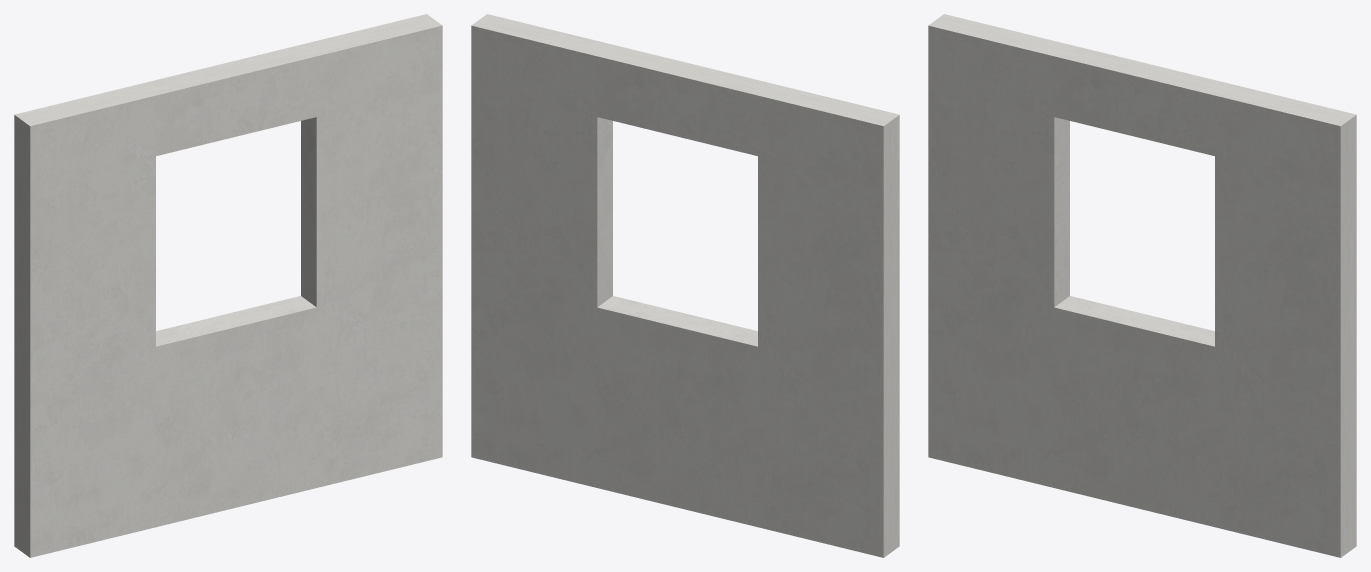
File: Wall_3x3x10_Window.FBX
The picture shows the model from 3 angles, left to right: view 1: azimuth 30°, elevation 25°; view 2: azimuth 150°, elevation 25°; view 3: azimuth 330°, elevation 25°; orthographic projection.
Visible parts, largest first — view 1: Wall_3x3x10_Window; view 2: Wall_3x3x10_Window; view 3: Wall_3x3x10_Window.
Part boxes in pixels (bbox=[...]): Wall_3x3x10_Window: bbox=[14, 14, 442, 557]; Wall_3x3x10_Window: bbox=[471, 14, 899, 557]; Wall_3x3x10_Window: bbox=[928, 14, 1356, 557].
Size of the model in its own units: 300 by 300 by 20.
